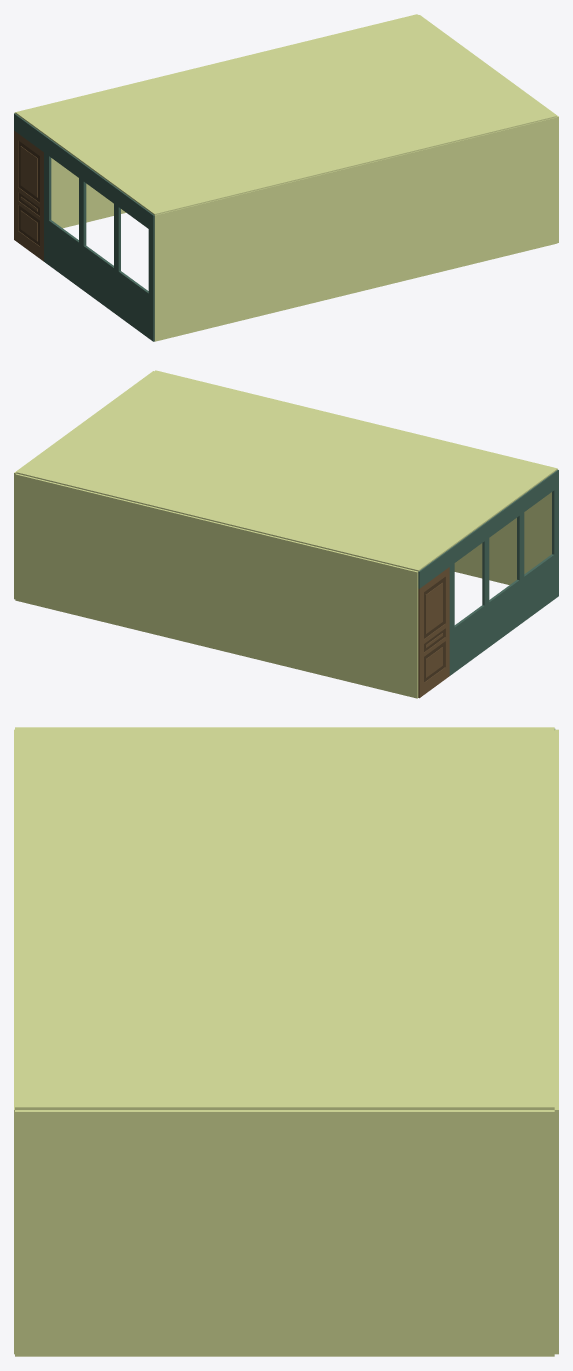
Rendered from Workshop.fbx.
3 renders of one model, top to bottom at view 1: azimuth 30°, elevation 25°; view 2: azimuth 150°, elevation 25°; view 3: azimuth 270°, elevation 25°, orthographic. The views are drawn at different scales.
Visible parts, largest first — view 1: Workshop; view 2: Workshop; view 3: Workshop.
Part boxes in pixels (<box>): Workshop: <box>14,14,558,341</box>; Workshop: <box>14,370,558,698</box>; Workshop: <box>14,727,558,1356</box>.
Size of the model in its own units: 100911 by 30300 by 60600.
